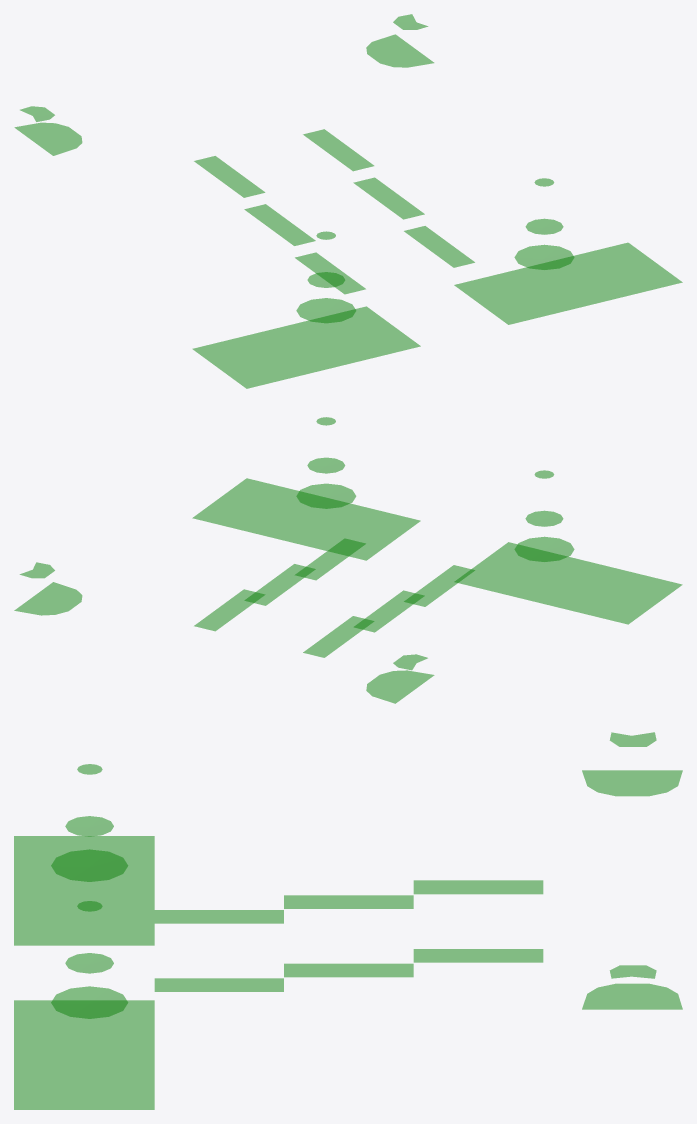
File: water.obj
The picture shows the model from 3 angles, top to bottom: view 1: azimuth 30°, elevation 25°; view 2: azimuth 150°, elevation 25°; view 3: azimuth 270°, elevation 25°; orthographic projection. The views are drawn at different scales.
Bounding box in the file's own units: 40 × 9.2 × 41.31.
